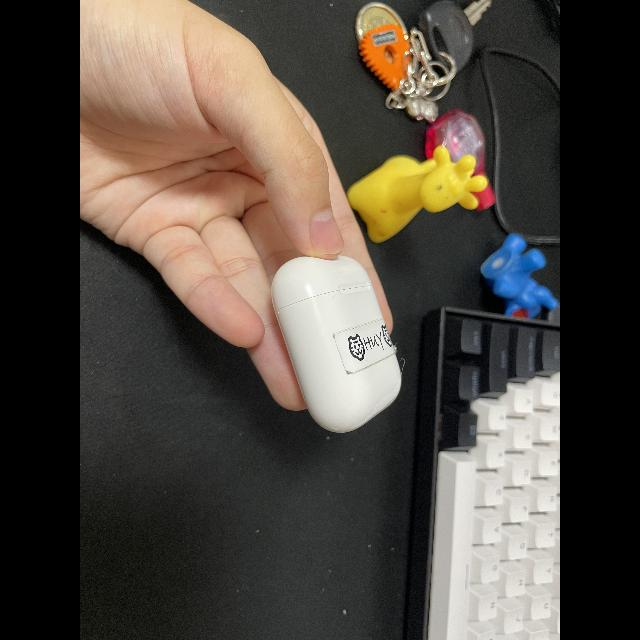airpod2: (260, 238, 416, 438)
